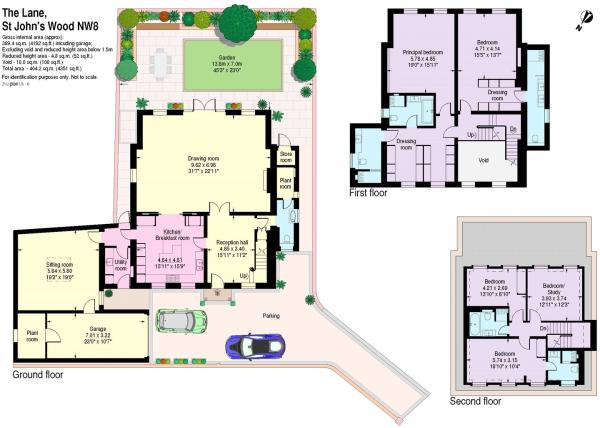GardenMeasurements: (206, 52, 247, 76)
GrossArea: (1, 64, 83, 74)
